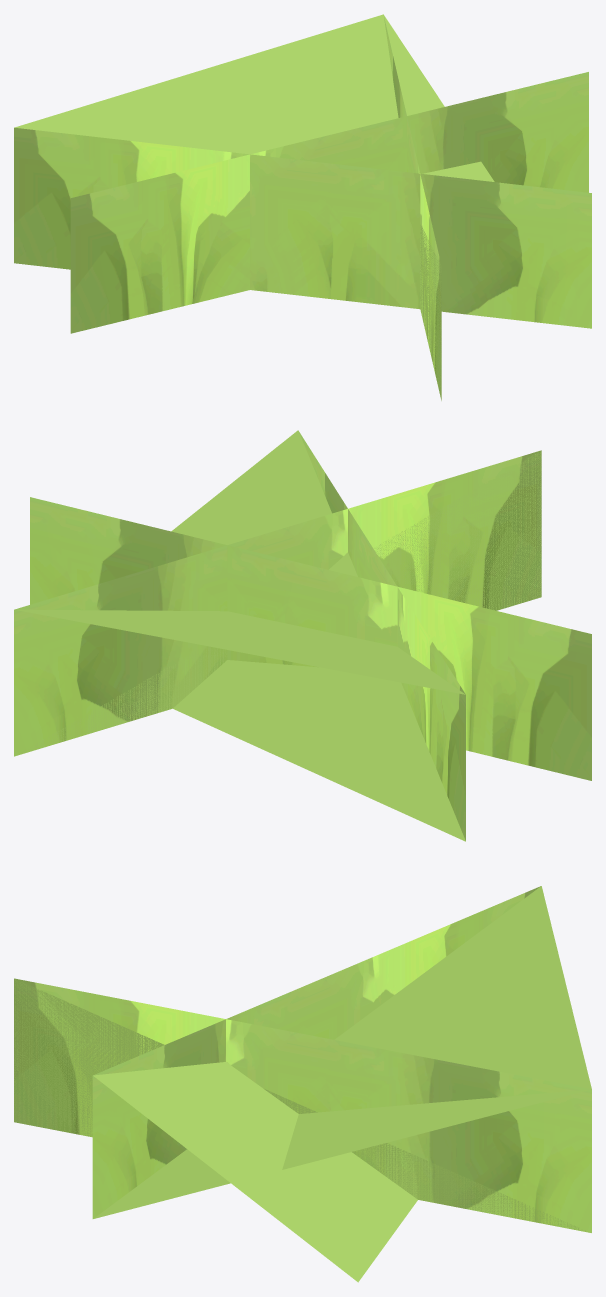
Rendered from SM_Env_Grass_Short_Clump_01.glb.
3 views of the same model, one above another, from view 1: azimuth 30°, elevation 25°; view 2: azimuth 150°, elevation 25°; view 3: azimuth 270°, elevation 25° (orthographic). The views are drawn at different scales.
Visible parts, largest first — view 1: SM_Env_Grass_Short_Clump_01; view 2: SM_Env_Grass_Short_Clump_01; view 3: SM_Env_Grass_Short_Clump_01.
Part boxes in pixels (x1=…): SM_Env_Grass_Short_Clump_01: x1=14, y1=14, x2=591, y2=400; SM_Env_Grass_Short_Clump_01: x1=14, y1=430, x2=591, y2=841; SM_Env_Grass_Short_Clump_01: x1=14, y1=886, x2=591, y2=1282.
Bounding box in the file's own units: 1 × 0.25 × 0.9104.
1 material, 1 textured.
